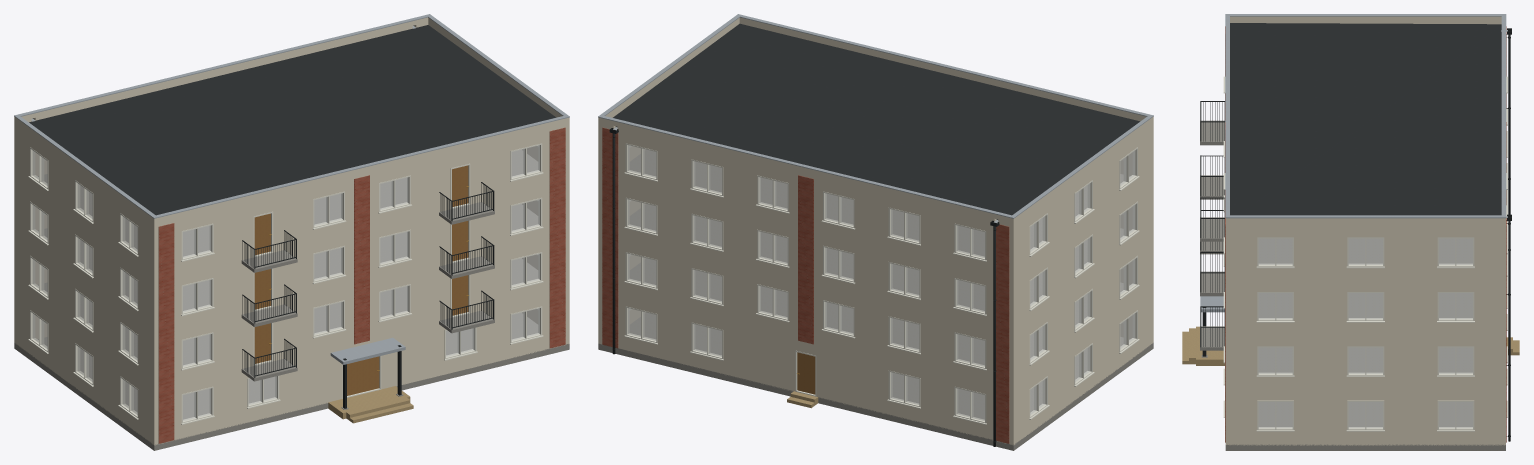
File: four-storey-apartment-block.glb
The picture shows the model from 3 angles, left to right: view 1: azimuth 30°, elevation 25°; view 2: azimuth 150°, elevation 25°; view 3: azimuth 270°, elevation 25°; orthographic projection.
Parts seen in each view (by area): view 1: Residential wall and parapet continuous united envelope, Residential roof continuous sloped waterproof surface, Grounded foundation and empty ground floor, Residential roof finite projecting coping, Facade -1 seated accent pier 11300.0, Facade -1 seated accent pier -11300.0, Empty storey 3 structural floor, Empty storey 4 structural floor, Empty storey 2 structural floor, Facade -1 seated accent pier 0, Residential Main entrance closed finite door leaf, Residential entry grounded entrance landing (+29 smaller); view 2: Residential wall and parapet continuous united envelope, Residential roof continuous sloped waterproof surface, Grounded foundation and empty ground floor, Residential roof finite projecting coping, Empty storey 3 structural floor, Empty storey 2 structural floor, Empty storey 4 structural floor, Facade 1 seated accent pier 11300.0, Facade 1 seated accent pier -11300.0, Facade 1 seated accent pier 0, Residential roof drain 1 hollow vertical downpipe, Residential Rear service entrance closed finite door leaf (+23 smaller); view 3: Residential wall and parapet continuous united envelope, Residential roof continuous sloped waterproof surface, Grounded foundation and empty ground floor, Residential roof finite projecting coping, Empty storey 2 structural floor, Empty storey 4 structural floor, Empty storey 3 structural floor, Residential right level 1 bay 1 finite glazing, Residential right level 1 bay 2 finite glazing, Residential right level 1 bay 3 finite glazing, Residential right level 2 bay 1 finite glazing, Residential right level 2 bay 2 finite glazing (+22 smaller).
Part boxes in pixels (x1=…): Residential wall and parapet continuous united envelope: x1=14, y1=17, x2=569, y2=445; Residential roof continuous sloped waterproof surface: x1=29, y1=25, x2=555, y2=215; Grounded foundation and empty ground floor: x1=14, y1=312, x2=569, y2=450; Residential roof finite projecting coping: x1=14, y1=14, x2=569, y2=218; Facade -1 seated accent pier 11300.0: x1=549, y1=127, x2=565, y2=348; Facade -1 seated accent pier -11300.0: x1=158, y1=223, x2=174, y2=443; Empty storey 3 structural floor: x1=38, y1=204, x2=538, y2=310; Empty storey 4 structural floor: x1=38, y1=149, x2=538, y2=256; Empty storey 2 structural floor: x1=38, y1=258, x2=538, y2=365; Facade -1 seated accent pier 0: x1=354, y1=175, x2=369, y2=344; Residential Main entrance closed finite door leaf: x1=347, y1=356, x2=379, y2=395; Residential entry grounded entrance landing: x1=328, y1=386, x2=410, y2=419; Residential wall and parapet continuous united envelope: x1=598, y1=17, x2=1153, y2=445; Residential roof continuous sloped waterproof surface: x1=613, y1=23, x2=1139, y2=219; Grounded foundation and empty ground floor: x1=598, y1=312, x2=1153, y2=450; Residential roof finite projecting coping: x1=598, y1=14, x2=1153, y2=218; Empty storey 3 structural floor: x1=629, y1=204, x2=1129, y2=310; Empty storey 2 structural floor: x1=629, y1=258, x2=1129, y2=365; Empty storey 4 structural floor: x1=629, y1=149, x2=1129, y2=256; Facade 1 seated accent pier 11300.0: x1=602, y1=127, x2=618, y2=348; Facade 1 seated accent pier -11300.0: x1=996, y1=224, x2=1009, y2=443; Facade 1 seated accent pier 0: x1=798, y1=175, x2=813, y2=344; Residential roof drain 1 hollow vertical downpipe: x1=612, y1=133, x2=615, y2=354; Residential Rear service entrance closed finite door leaf: x1=797, y1=352, x2=815, y2=394; Residential wall and parapet continuous united envelope: x1=1225, y1=16, x2=1505, y2=445; Residential roof continuous sloped waterproof surface: x1=1230, y1=23, x2=1501, y2=215; Grounded foundation and empty ground floor: x1=1225, y1=402, x2=1505, y2=450; Residential roof finite projecting coping: x1=1225, y1=14, x2=1506, y2=218; Empty storey 2 structural floor: x1=1258, y1=347, x2=1472, y2=372; Empty storey 4 structural floor: x1=1258, y1=238, x2=1472, y2=263; Empty storey 3 structural floor: x1=1258, y1=293, x2=1472, y2=317; Residential right level 1 bay 1 finite glazing: x1=1259, y1=402, x2=1292, y2=427; Residential right level 1 bay 2 finite glazing: x1=1349, y1=402, x2=1382, y2=427; Residential right level 1 bay 3 finite glazing: x1=1439, y1=402, x2=1472, y2=427; Residential right level 2 bay 1 finite glazing: x1=1259, y1=348, x2=1292, y2=373; Residential right level 2 bay 2 finite glazing: x1=1349, y1=348, x2=1382, y2=373.
Bounding box in the file's own units: 24.2 × 12.87 × 16.84.
12 materials, 12 textured.
